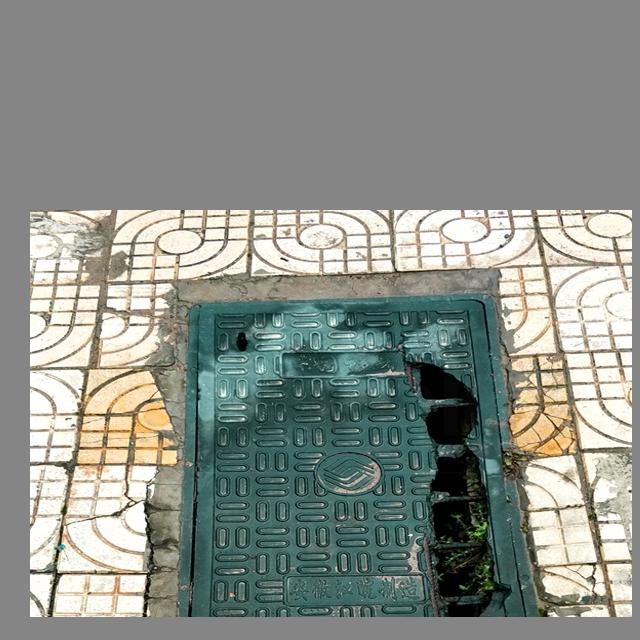broke: (178, 291, 541, 616)
